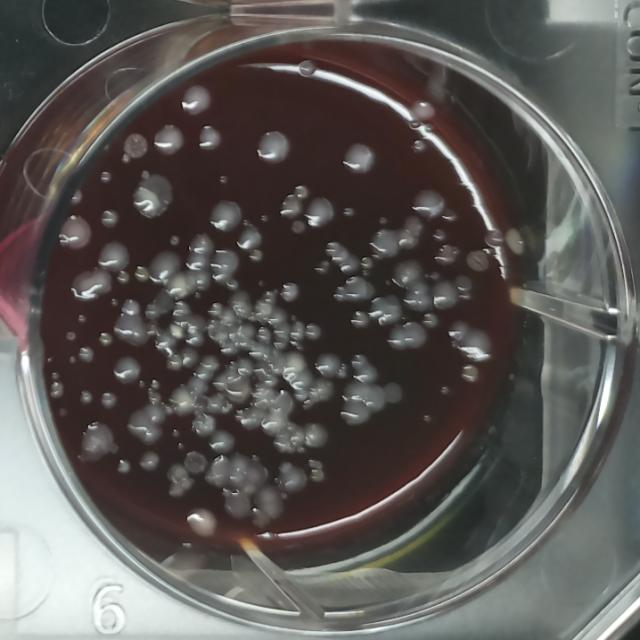Acinetobacter: (447, 320, 495, 362), (254, 130, 294, 168), (340, 139, 377, 177), (150, 122, 187, 159), (180, 82, 214, 120), (208, 198, 244, 233), (410, 186, 446, 221), (148, 247, 182, 284), (304, 194, 336, 230), (97, 240, 130, 274), (111, 354, 142, 386), (196, 124, 225, 154), (313, 350, 343, 378), (233, 225, 263, 251), (278, 280, 302, 304), (304, 322, 324, 343)
Bacillus: (186, 508, 220, 544), (184, 449, 208, 475)
Vagococcus: (148, 170, 178, 207), (381, 378, 406, 410), (152, 288, 176, 314), (453, 270, 475, 296), (362, 280, 378, 303)
